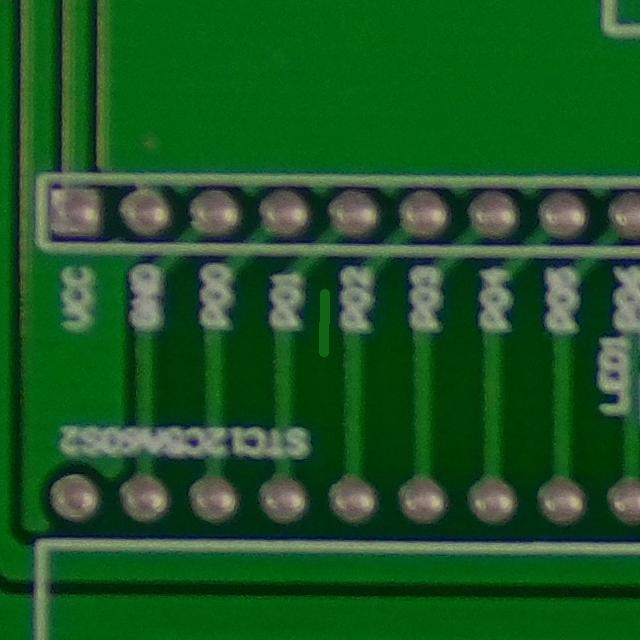spurious_copper: (291, 277, 350, 364)
